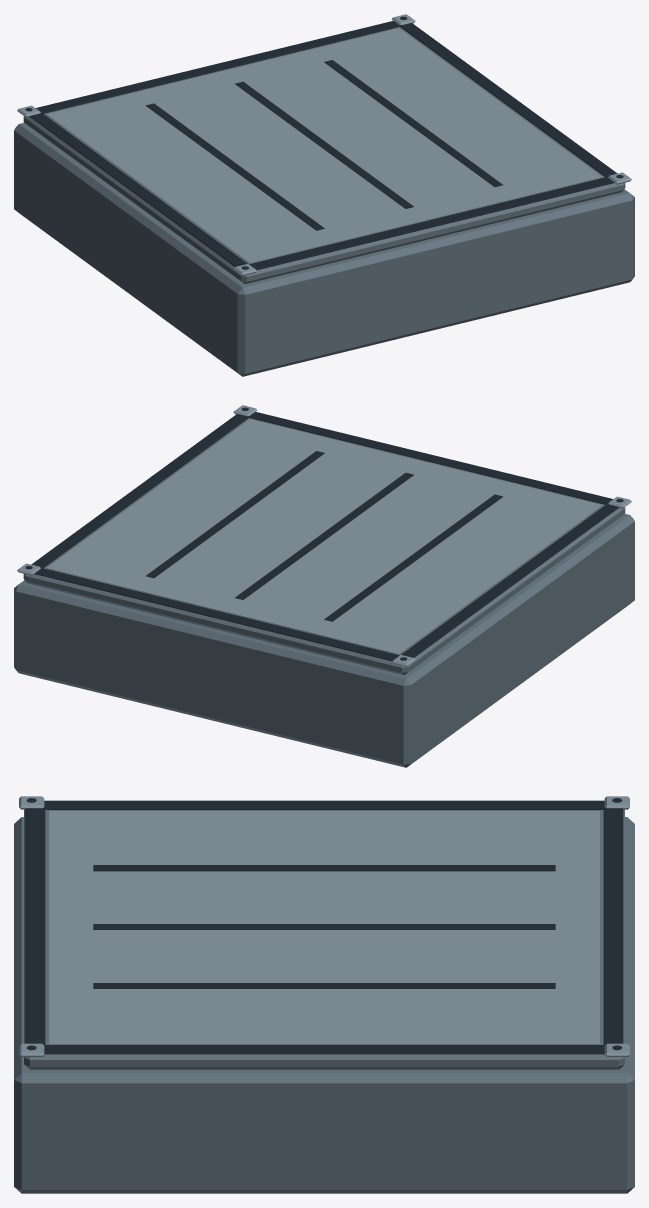
Rendered from LowFrictionDeck.fbx.
The picture shows the model from 3 angles, top to bottom: view 1: azimuth 30°, elevation 25°; view 2: azimuth 150°, elevation 25°; view 3: azimuth 270°, elevation 25°; orthographic projection. The views are drawn at different scales.
Parts seen in each view (by area): view 1: Surface, Deck, Frame, GlideInlays; view 2: Surface, Deck, Frame, GlideInlays; view 3: Surface, Deck, Frame, GlideInlays.
Boxes of the visible parts, x1,y1,x2,y2 form: Surface: [46, 28, 602, 263]; Deck: [14, 27, 634, 376]; Frame: [17, 14, 631, 275]; GlideInlays: [145, 60, 502, 230]; Surface: [46, 419, 602, 654]; Deck: [14, 418, 634, 767]; Frame: [17, 405, 631, 666]; GlideInlays: [146, 451, 503, 621]; Surface: [49, 811, 599, 1044]; Deck: [14, 809, 634, 1193]; Frame: [19, 796, 629, 1056]; GlideInlays: [93, 865, 555, 988].
Bounding box in the file's own units: 0.98 × 0.247 × 0.98.
